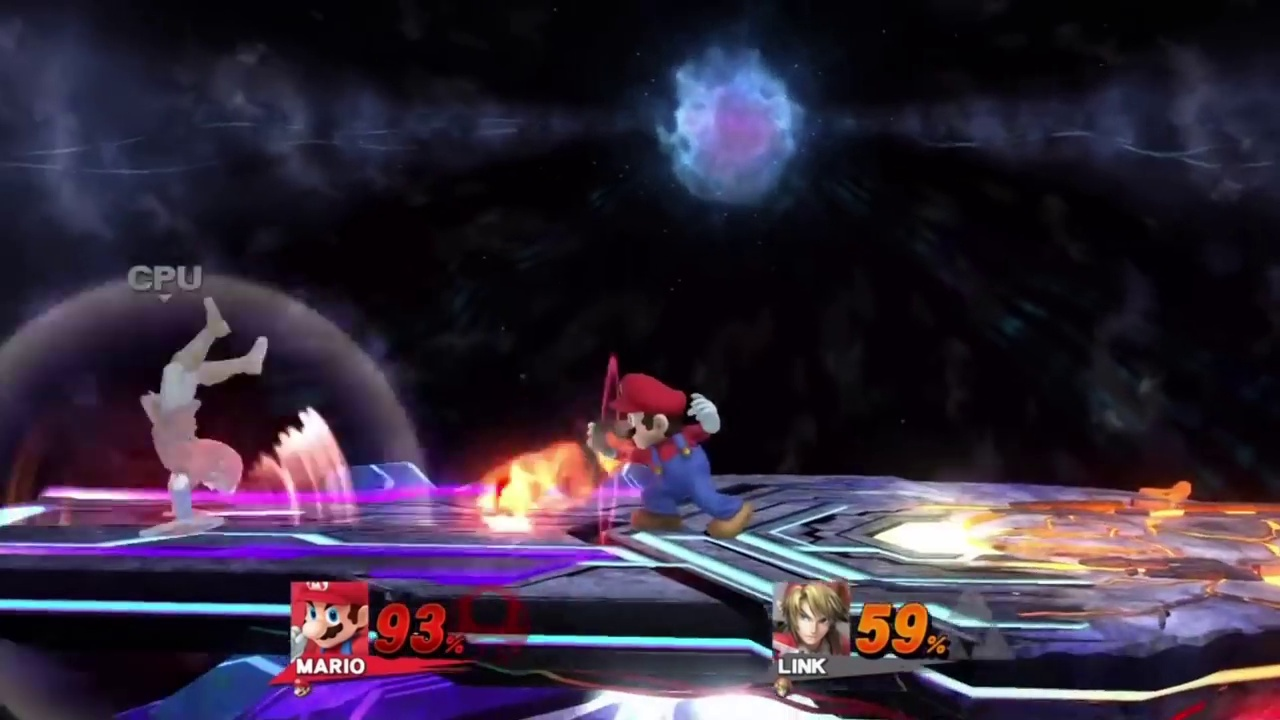Mario: (587, 374, 751, 535)
